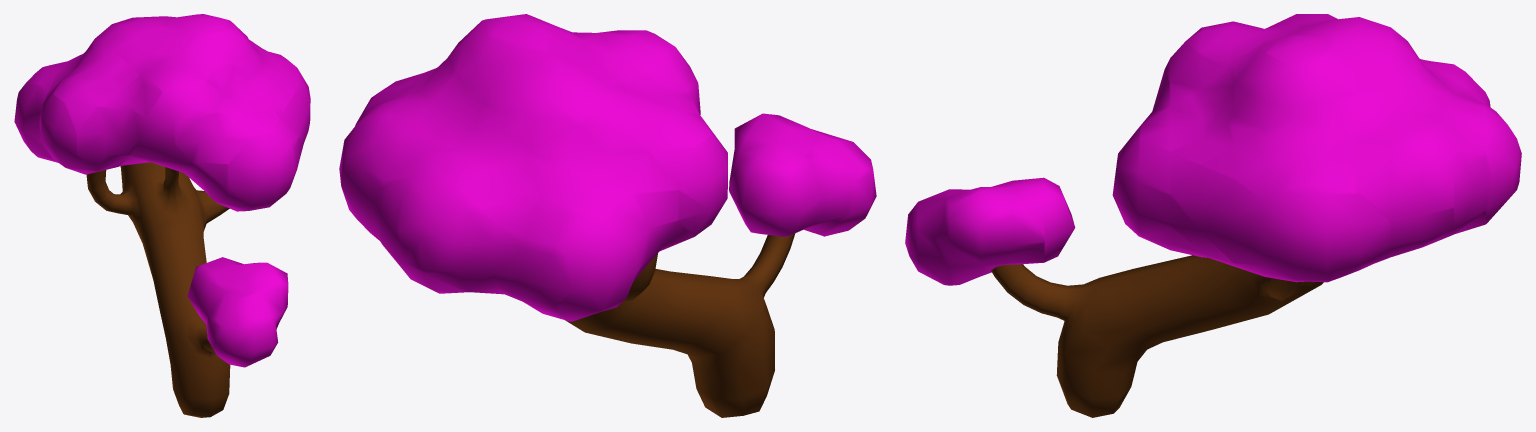
Rendered from uproot3.fbx.
3 renders of one model, left to right at view 1: azimuth 30°, elevation 25°; view 2: azimuth 150°, elevation 25°; view 3: azimuth 270°, elevation 25°, orthographic. The views are drawn at different scales.
Parts seen in each view (by area): view 1: uproot3; view 2: uproot3; view 3: uproot3.
Boxes of the visible parts, box(x1,y1,x2,y2) form: uproot3: box(14, 14, 310, 417); uproot3: box(339, 14, 876, 417); uproot3: box(905, 14, 1521, 417).
Size of the model in its own units: 258 by 311 by 409.
